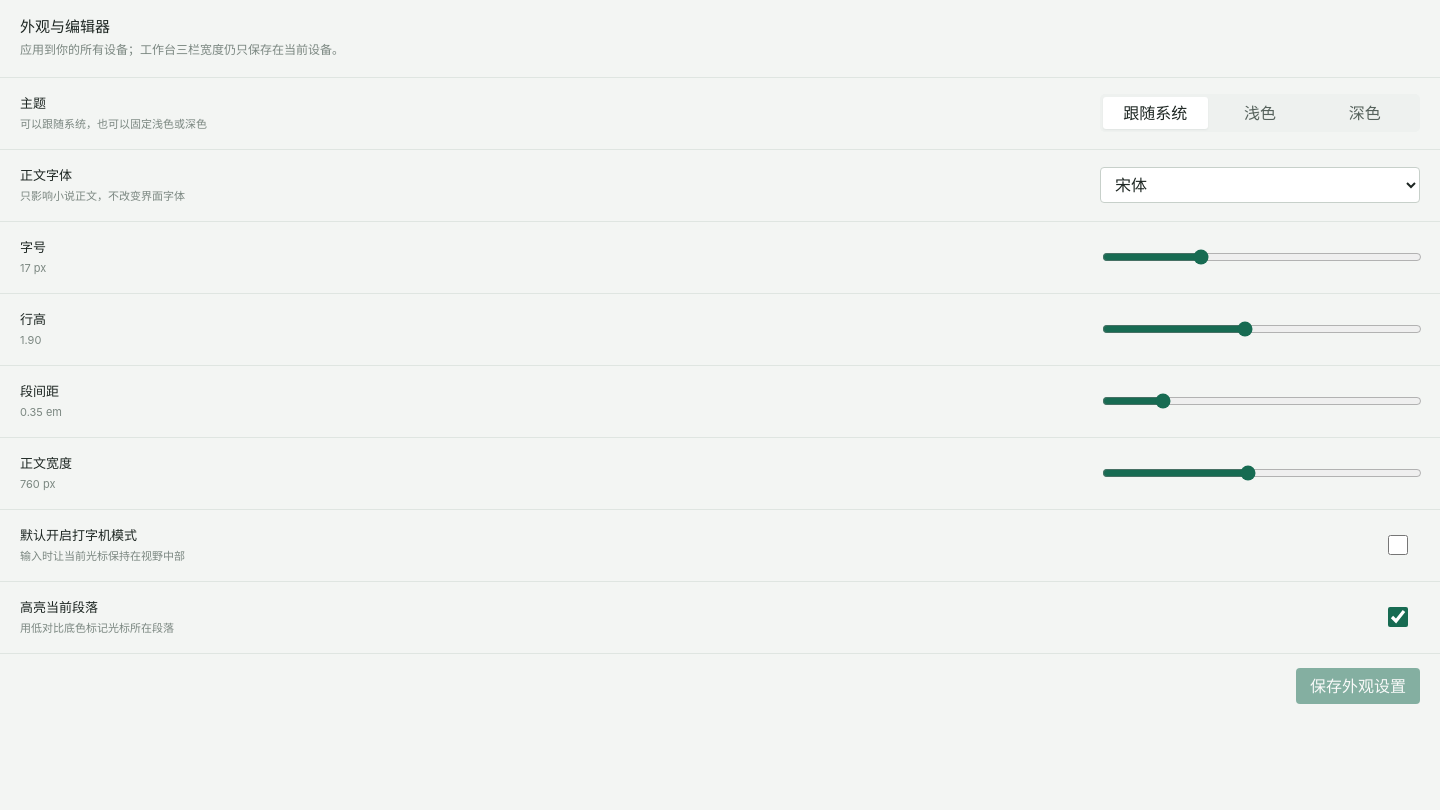
it: ProfileAppearancePanel › loads the server preferences and saves the complete section explicitly
Expected: the submit button is disabled, x1=1296 y1=668 x2=1420 y2=704
Set the slider named "正文字号" to "19" at {"x": 1262, "y": 257}, box x1=1102 y1=249 x2=1422 y2=265
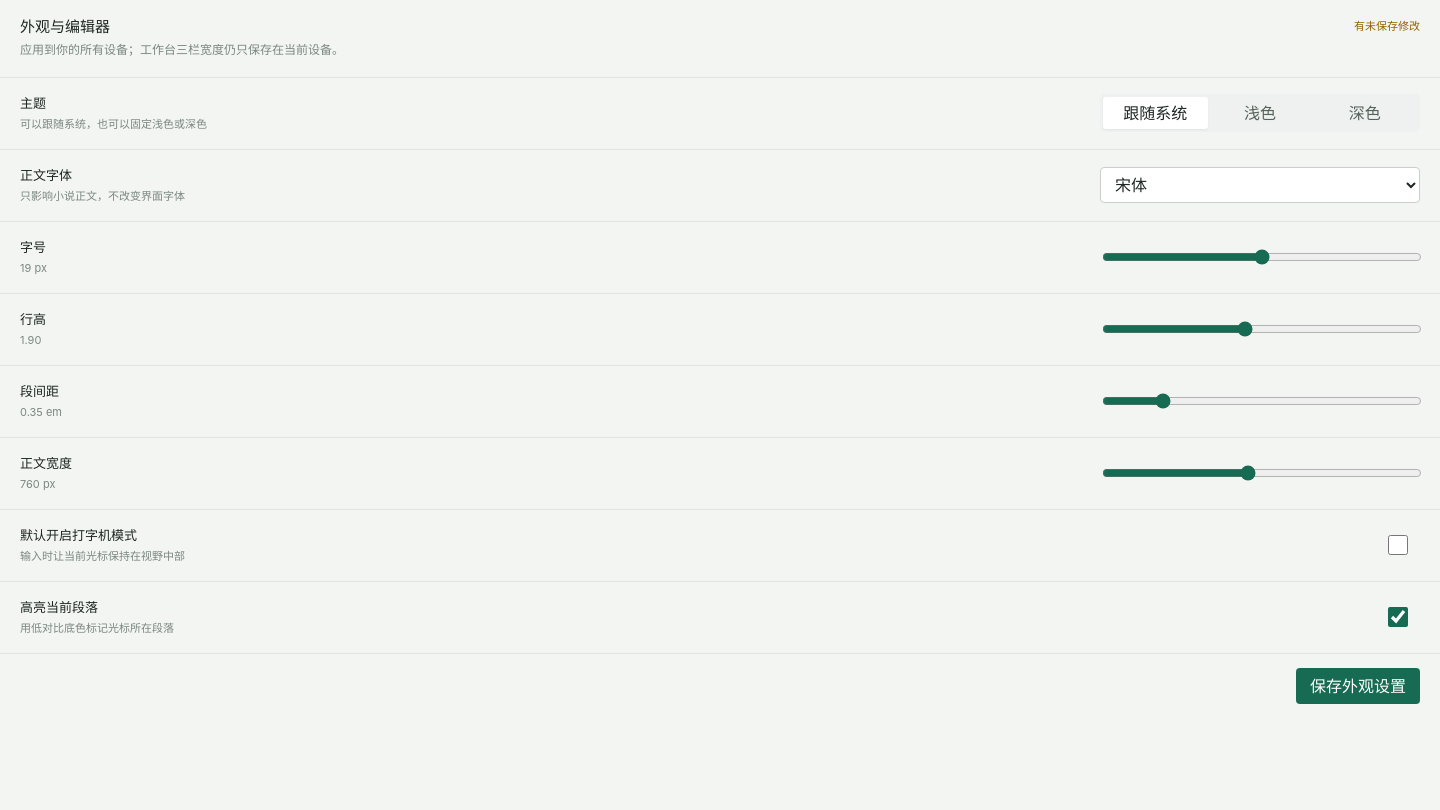
Expected: the text "有未保存修改" is shown, x1=1354 y1=18 x2=1420 y2=34
Submit the form from the submit button, box x1=1296 y1=668 x2=1420 y2=704
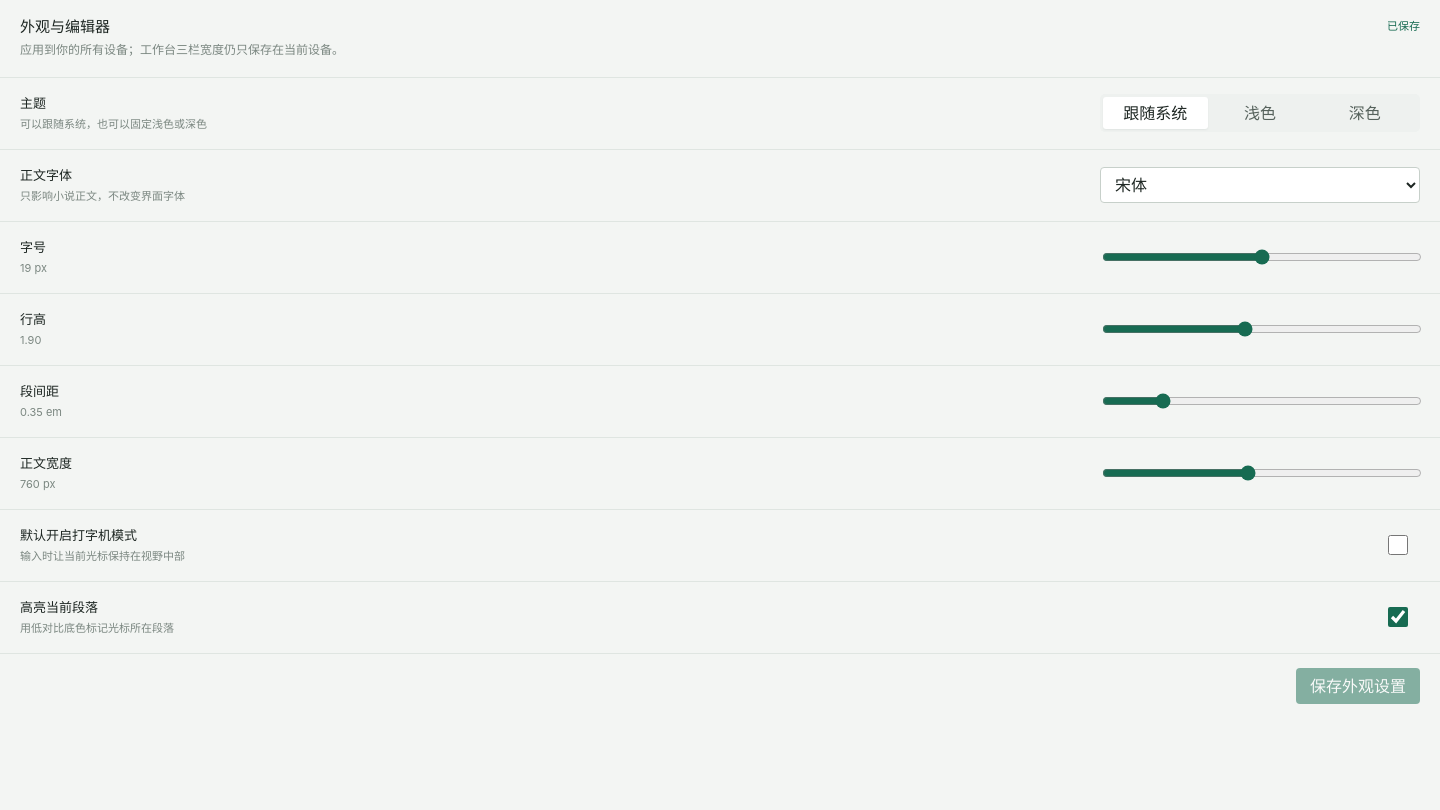
Expected: the text "已保存" is shown, x1=1387 y1=18 x2=1420 y2=34
